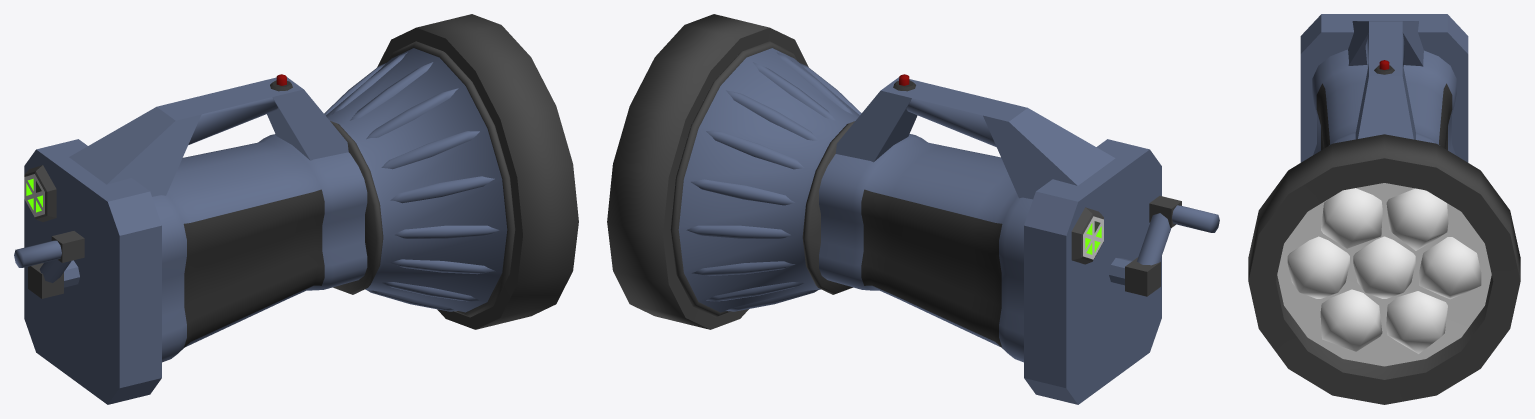
File: Torch.fbx
3 renders of one model, left to right at view 1: azimuth 30°, elevation 25°; view 2: azimuth 150°, elevation 25°; view 3: azimuth 270°, elevation 25°, orthographic. The views are drawn at different scales.
Visible parts, largest first — view 1: Head, Body, Battery Plate, Handle, Torch Grip, Wind Handle, Battery LED; view 2: Head, Body, Battery Plate, Handle, Torch Grip, Wind Handle, Battery LED; view 3: Head, Bulbs, Body, Battery Plate, Handle.
Boxes of the visible parts, x1=… form: Head: x1=326, y1=14, x2=578, y2=329; Body: x1=152, y1=134, x2=367, y2=362; Battery Plate: x1=24, y1=139, x2=161, y2=404; Handle: x1=69, y1=77, x2=348, y2=196; Torch Grip: x1=324, y1=52, x2=499, y2=311; Wind Handle: x1=14, y1=231, x2=84, y2=298; Battery LED: x1=24, y1=165, x2=56, y2=221; Head: x1=607, y1=14, x2=859, y2=329; Body: x1=819, y1=134, x2=1032, y2=362; Battery Plate: x1=1024, y1=139, x2=1161, y2=404; Handle: x1=835, y1=77, x2=1115, y2=199; Torch Grip: x1=686, y1=52, x2=861, y2=311; Wind Handle: x1=1109, y1=196, x2=1219, y2=296; Battery LED: x1=1071, y1=207, x2=1103, y2=264; Head: x1=1248, y1=134, x2=1520, y2=404; Bulbs: x1=1287, y1=188, x2=1481, y2=353; Body: x1=1312, y1=49, x2=1456, y2=154; Battery Plate: x1=1300, y1=14, x2=1468, y2=162; Handle: x1=1348, y1=21, x2=1423, y2=139.
Size of the model in its own units: 241 by 129 by 127.
